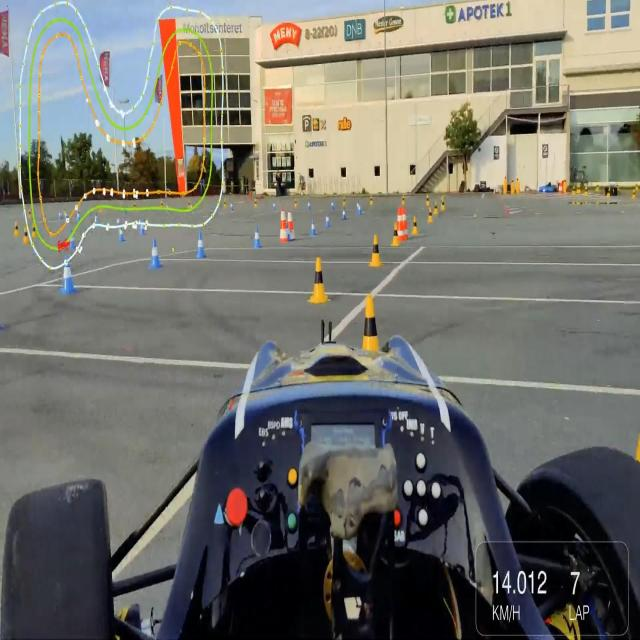blue_cone: (60, 256, 76, 296), (148, 236, 162, 271), (196, 233, 205, 260), (252, 226, 261, 248), (68, 228, 76, 252), (284, 220, 292, 242), (310, 220, 317, 236), (139, 218, 145, 234), (119, 226, 124, 241), (307, 198, 312, 211), (356, 198, 361, 209), (326, 215, 330, 228), (78, 210, 82, 222), (342, 208, 346, 219), (358, 205, 362, 215), (330, 200, 334, 210), (231, 203, 234, 213), (59, 211, 61, 224)
large_orange_cone: (287, 210, 297, 242), (279, 210, 288, 243), (400, 208, 409, 240), (396, 210, 404, 241)
yellow_cone: (356, 294, 387, 380), (309, 257, 331, 305), (369, 235, 384, 268), (391, 224, 400, 251), (410, 214, 418, 237), (14, 220, 20, 238), (428, 208, 434, 224), (433, 200, 439, 216), (23, 228, 28, 245), (440, 197, 445, 211), (32, 224, 37, 238), (426, 194, 431, 206), (401, 194, 406, 206), (294, 198, 298, 210), (343, 196, 347, 207), (28, 208, 31, 219), (370, 195, 373, 205), (254, 199, 257, 209)
